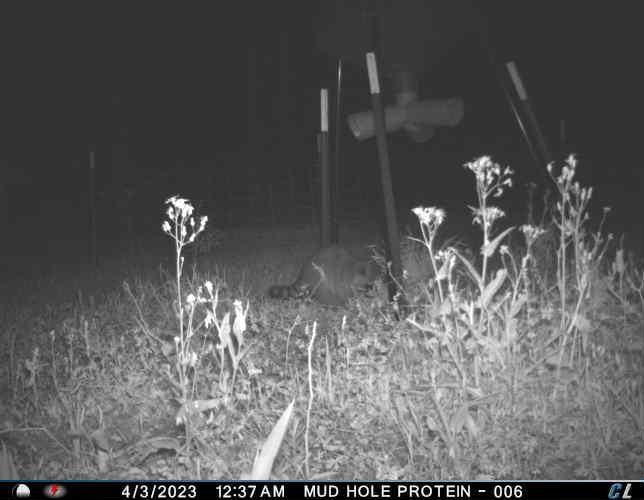Raccoon: (268, 243, 389, 310)
